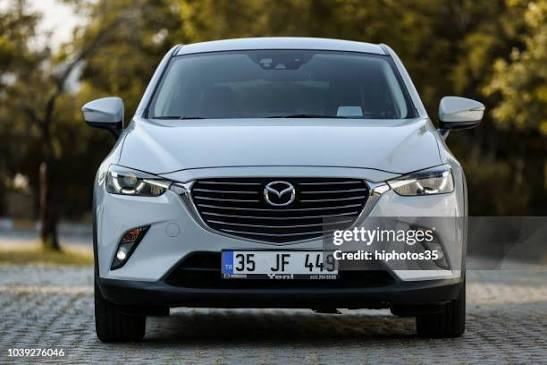car: (85, 31, 473, 344), (94, 36, 473, 341)
